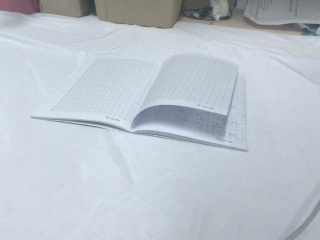box: (92, 1, 184, 31), (38, 1, 95, 19)
